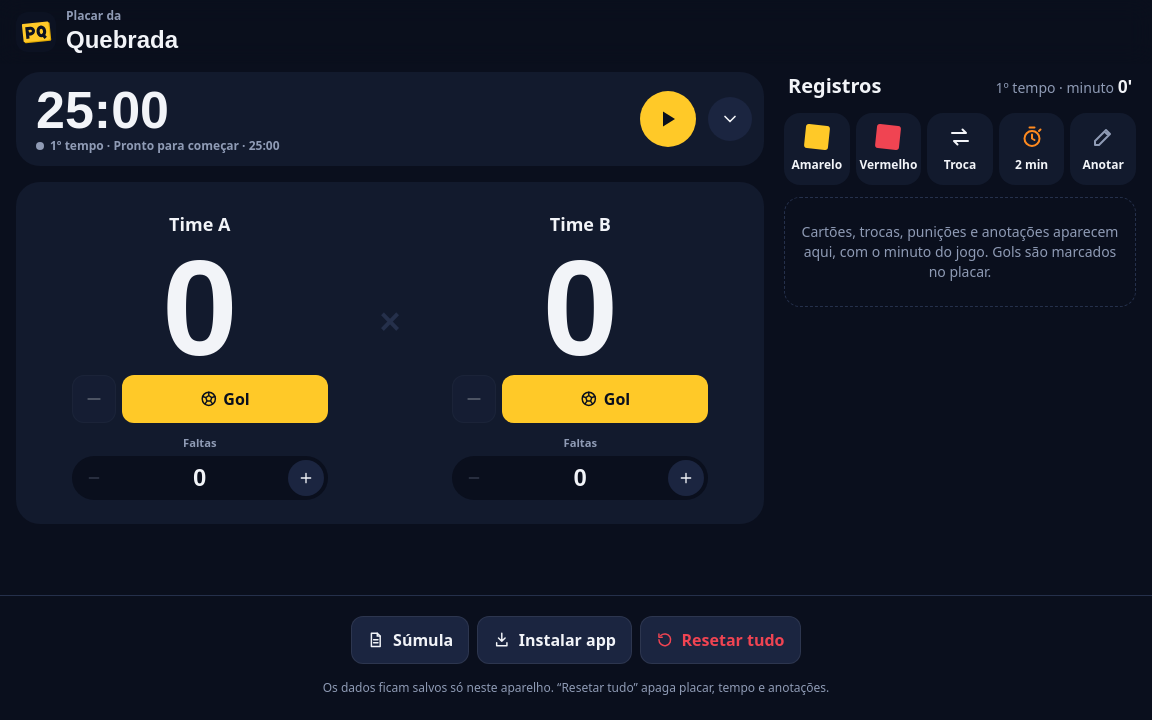
Test: App › marca faltas por time
The width and height of the screenshot is (1152, 720).
What coordinates should you click on to do the following:
click the button named "Falta de Time B"
I would click on:
 (686, 478)
Its box is left=668, top=460, right=704, bottom=496.
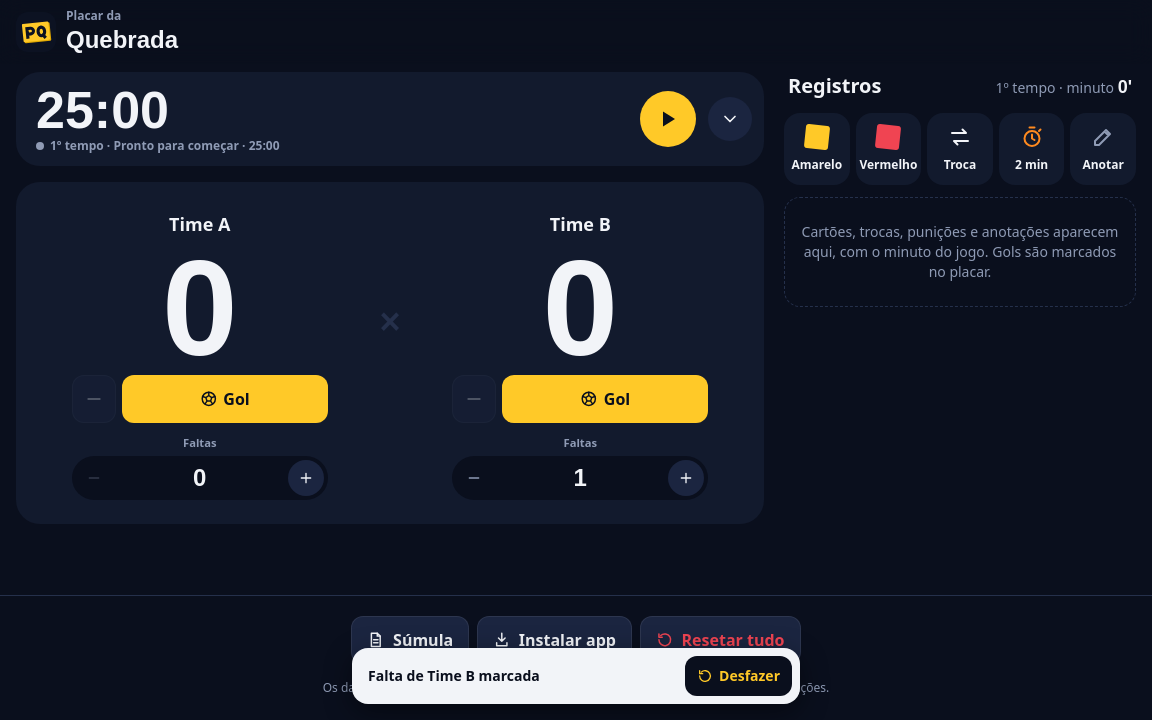
What coordinates should you click on to do the following:
click the button named "Falta de Time B"
I would click on:
 (686, 478)
Its box is left=668, top=460, right=704, bottom=496.
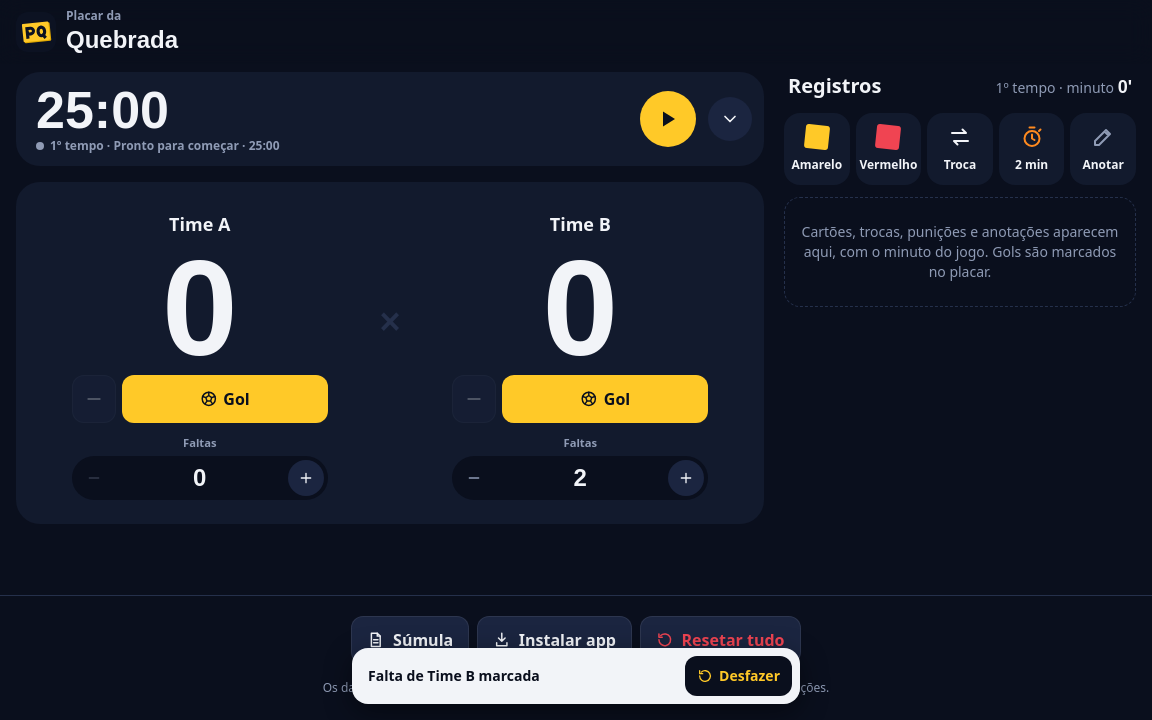
What coordinates should you click on to do the following:
click the button named "Tirar uma falta de Time B"
I would click on:
 (474, 478)
Its box is left=456, top=460, right=492, bottom=496.
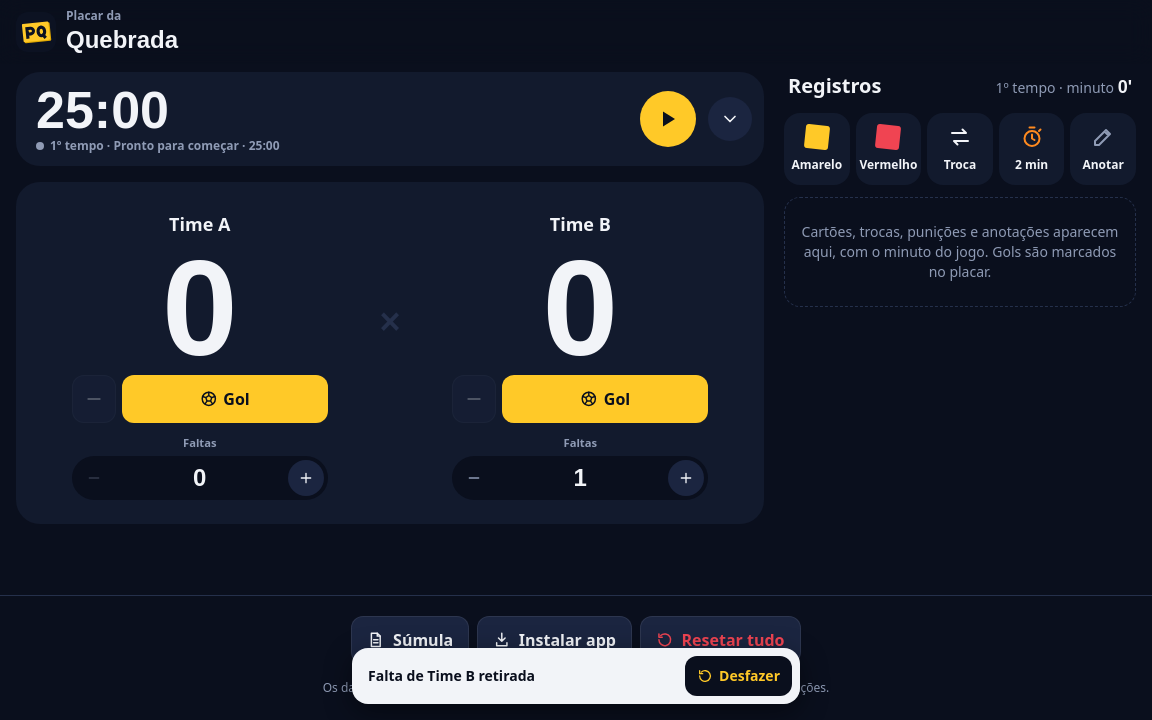
expect the text named "Faltas de Time A" reads "0": met, box left=193, top=464, right=206, bottom=491
expect the text named "Faltas de Time B" reads "1": met, box left=574, top=464, right=587, bottom=491
